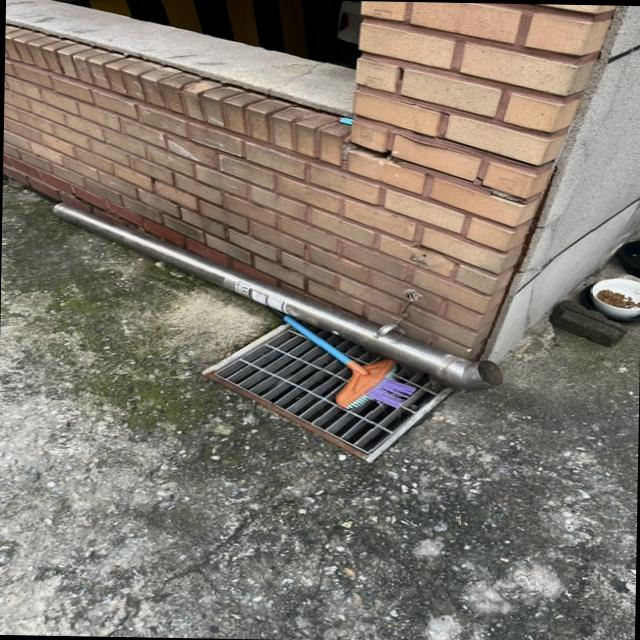drain_area: (209, 326, 447, 455), (299, 321, 385, 364)
drain_full: (213, 320, 446, 455)
